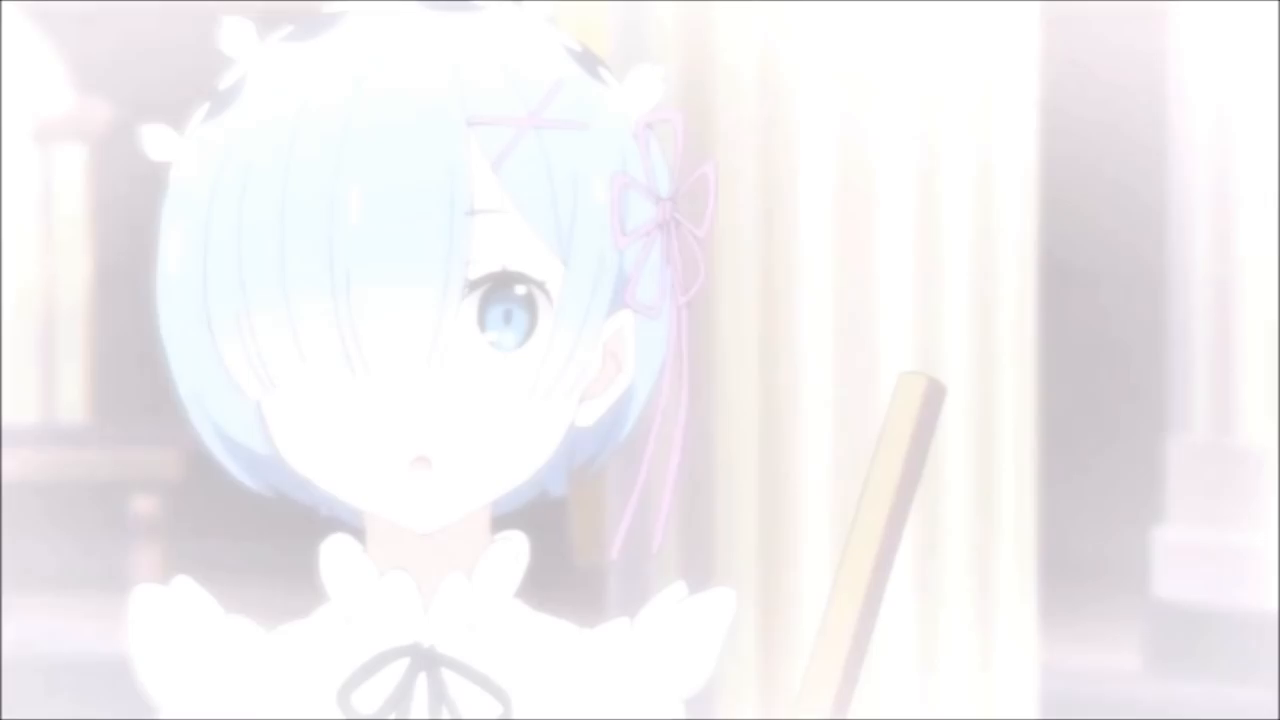REM: (134, 1, 703, 526)
